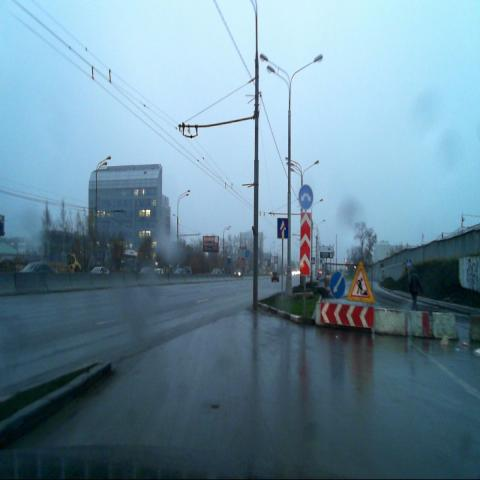5_6: (277, 217, 288, 239)
